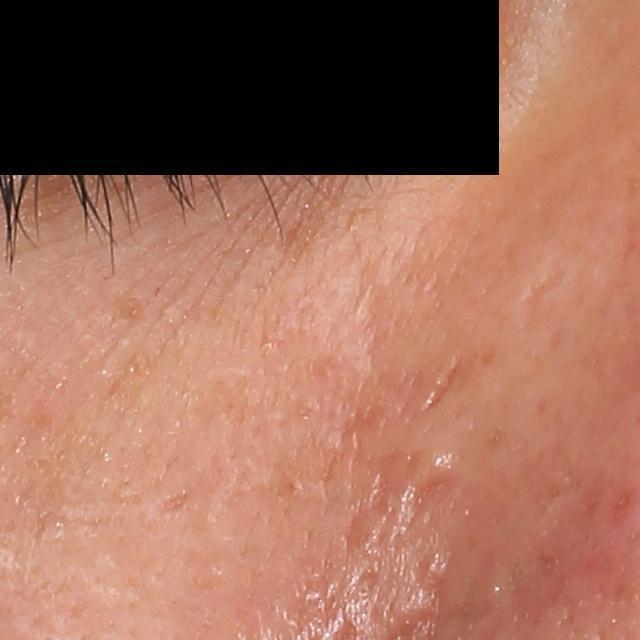atrophic_scar: (515, 253, 577, 327), (404, 468, 458, 521), (367, 449, 402, 520), (422, 357, 461, 411)
melasma: (18, 156, 73, 222), (108, 289, 148, 323)
